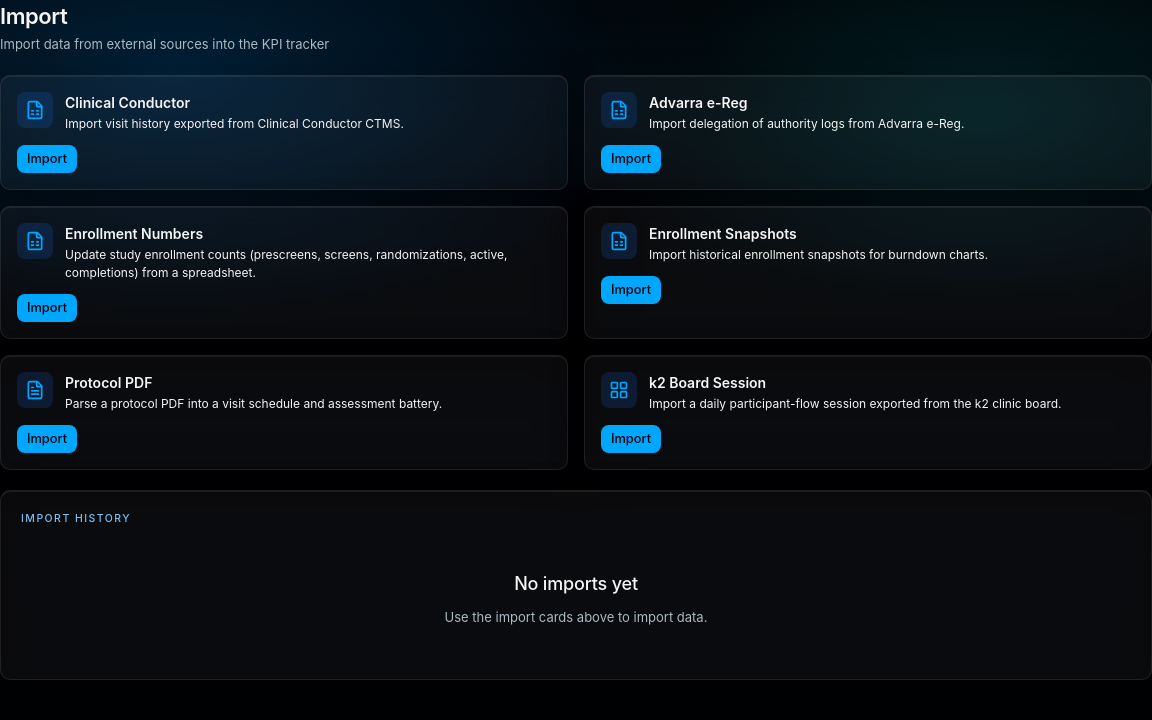
it: Import › opens the Clinical Conductor dialog when its Import button is clicked
The image size is (1152, 720).
# Prefer a more robust lookup: find all Import buttons, click the first one (CC is first card).
Step 1. Click the 1st button "Import" → (47, 158), box [17,144,77,172]
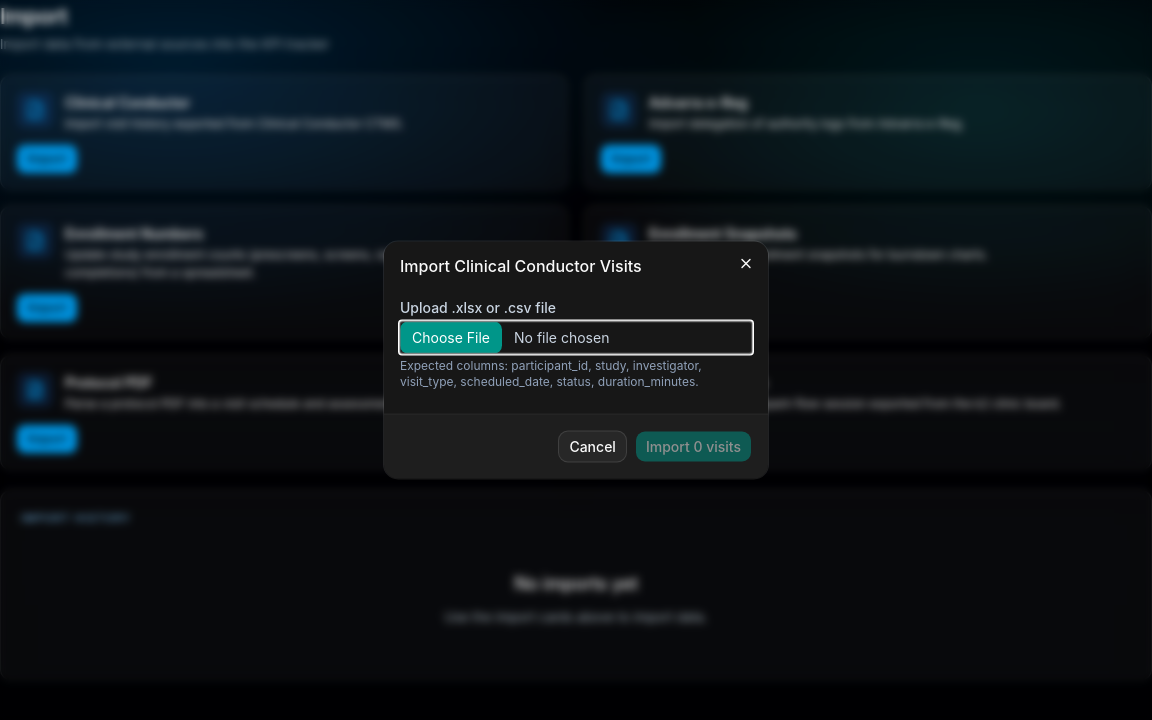
Check: the dialog "Import Clinical Conductor Visits" is shown, box [384,242,768,478]
